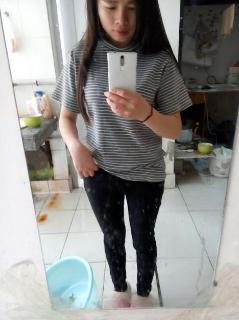short sleeve top: (50, 32, 194, 182)
trousers: (84, 157, 165, 297)
